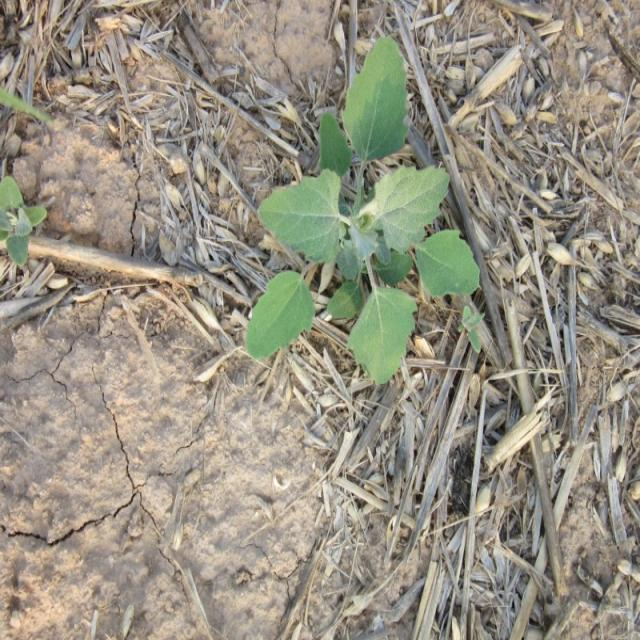ca: (244, 39, 480, 384)
